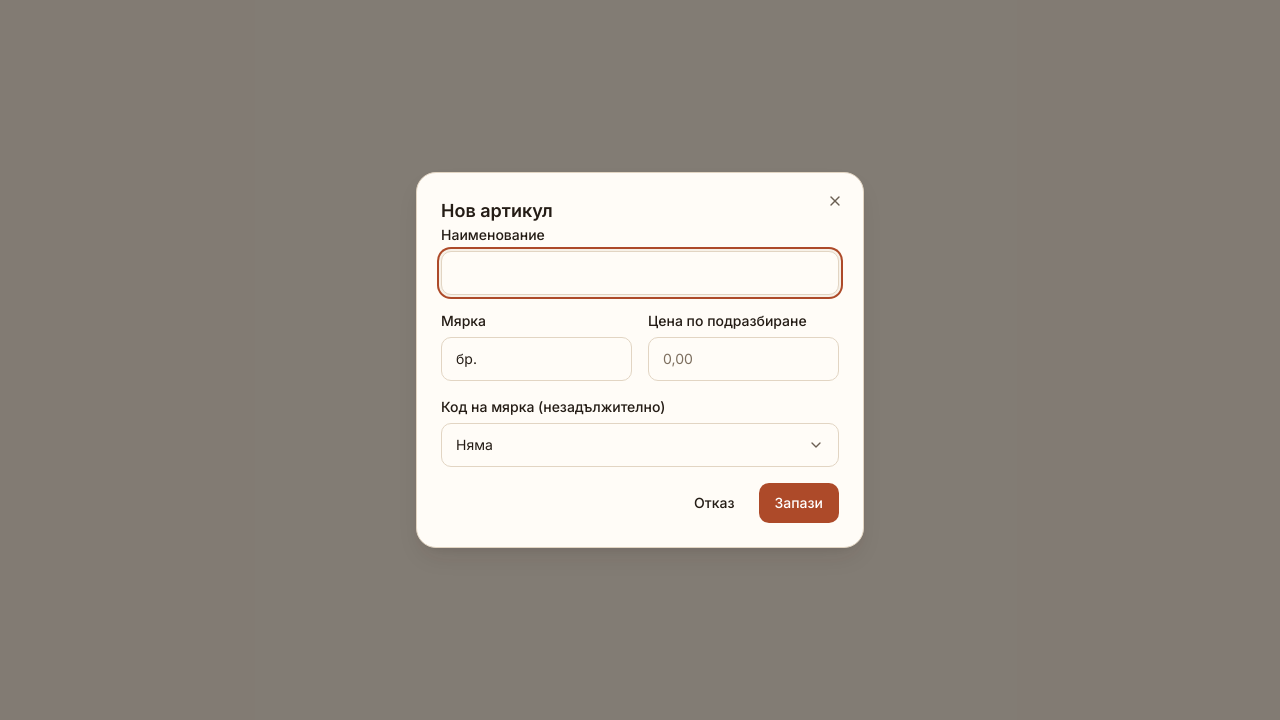
Test: CatalogueFormDialog › shows the Bulgarian validation error when required fields are empty
Click the button "Запази" at (799, 503), box [758,483,839,523]
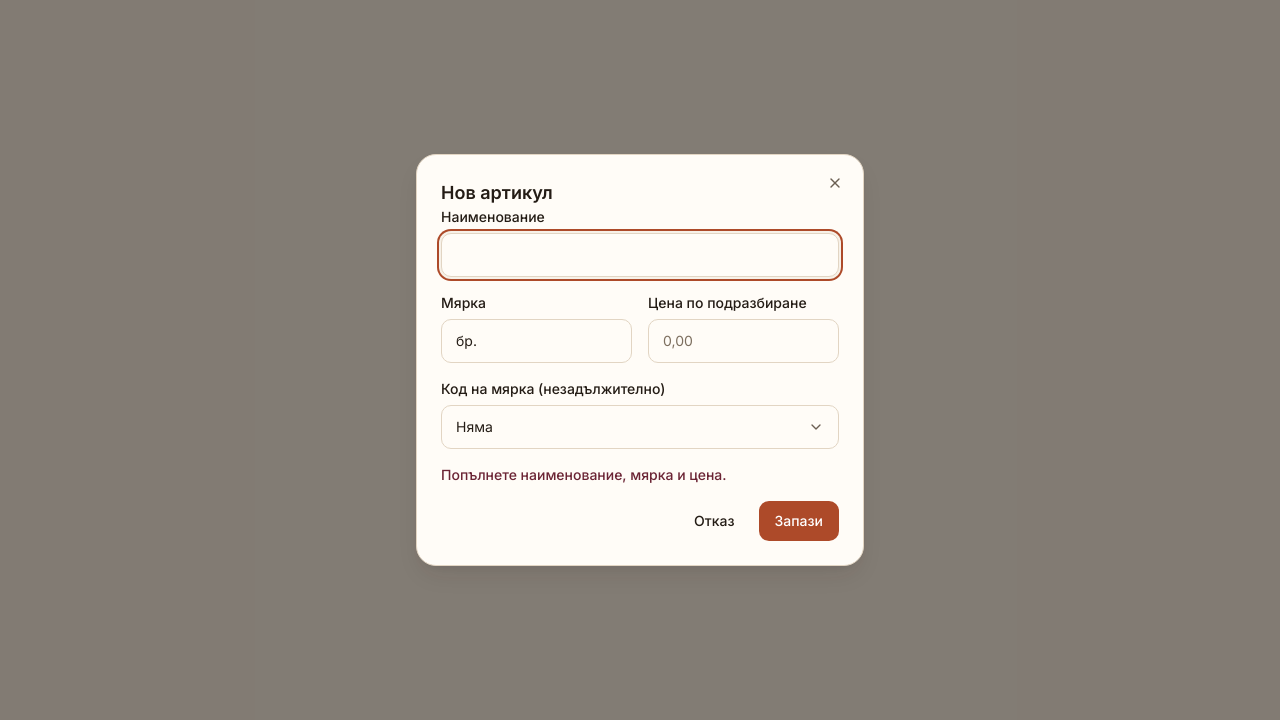
Result: the text "Попълнете наименование, мярка и цена." is shown at [441,466,726,483]
